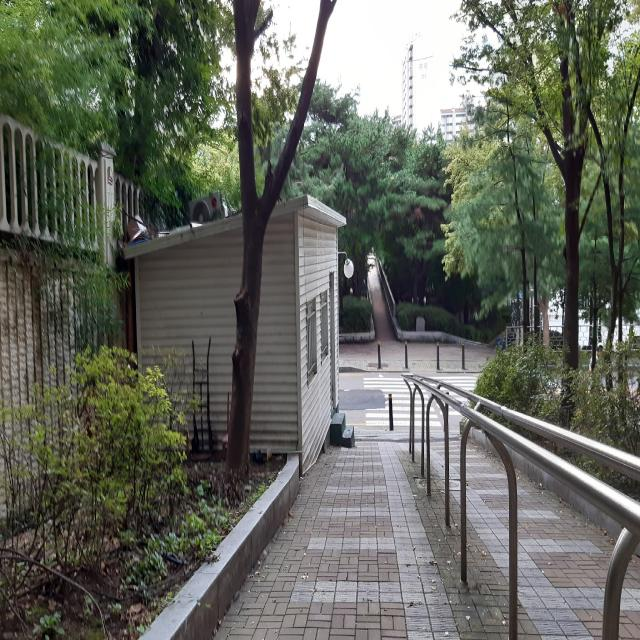횡단보도: (363, 374, 478, 427)
